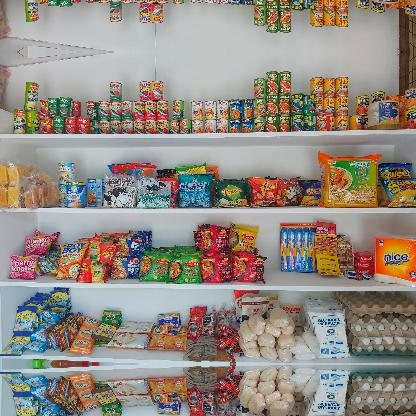Lady-s-Choice: (366, 101, 400, 130)
